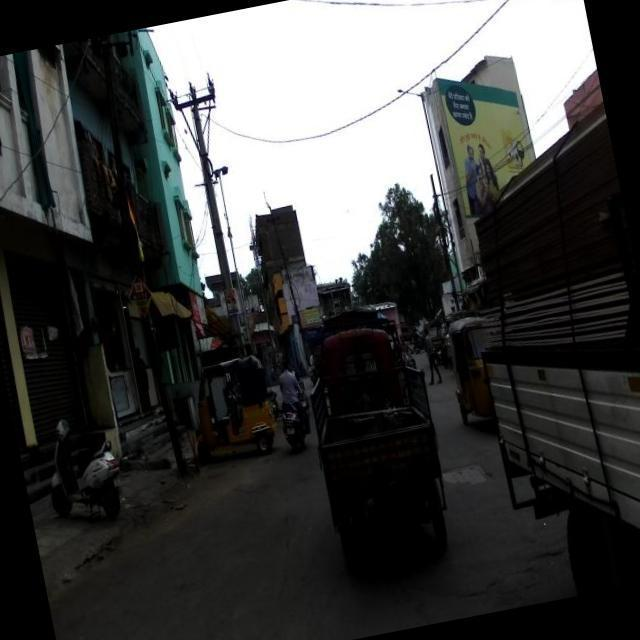Pothole: (443, 465, 489, 484)
